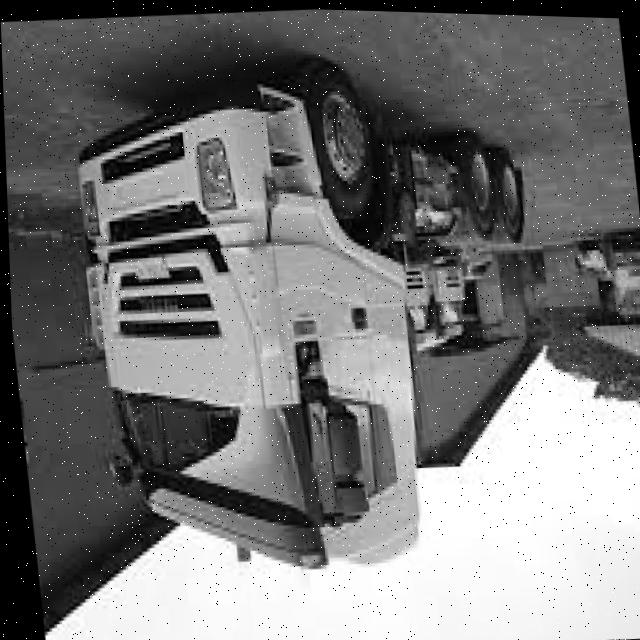truck: (45, 40, 446, 596)
